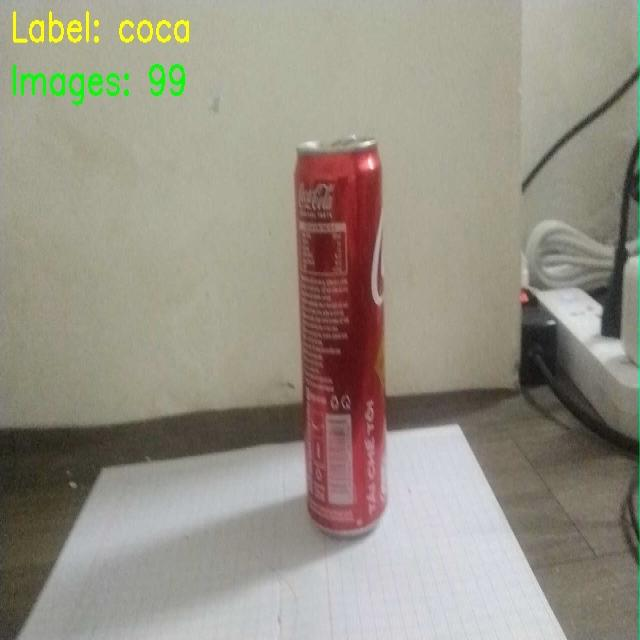Coca: (260, 107, 430, 572)
